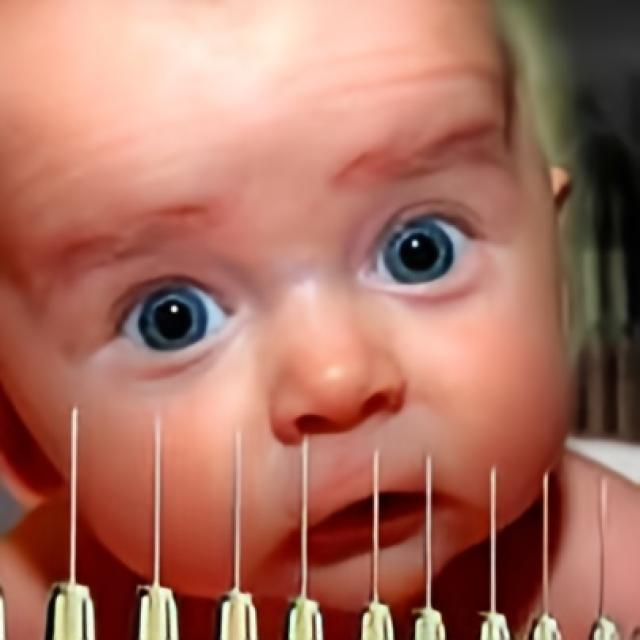Fear: (3, 1, 576, 612)
